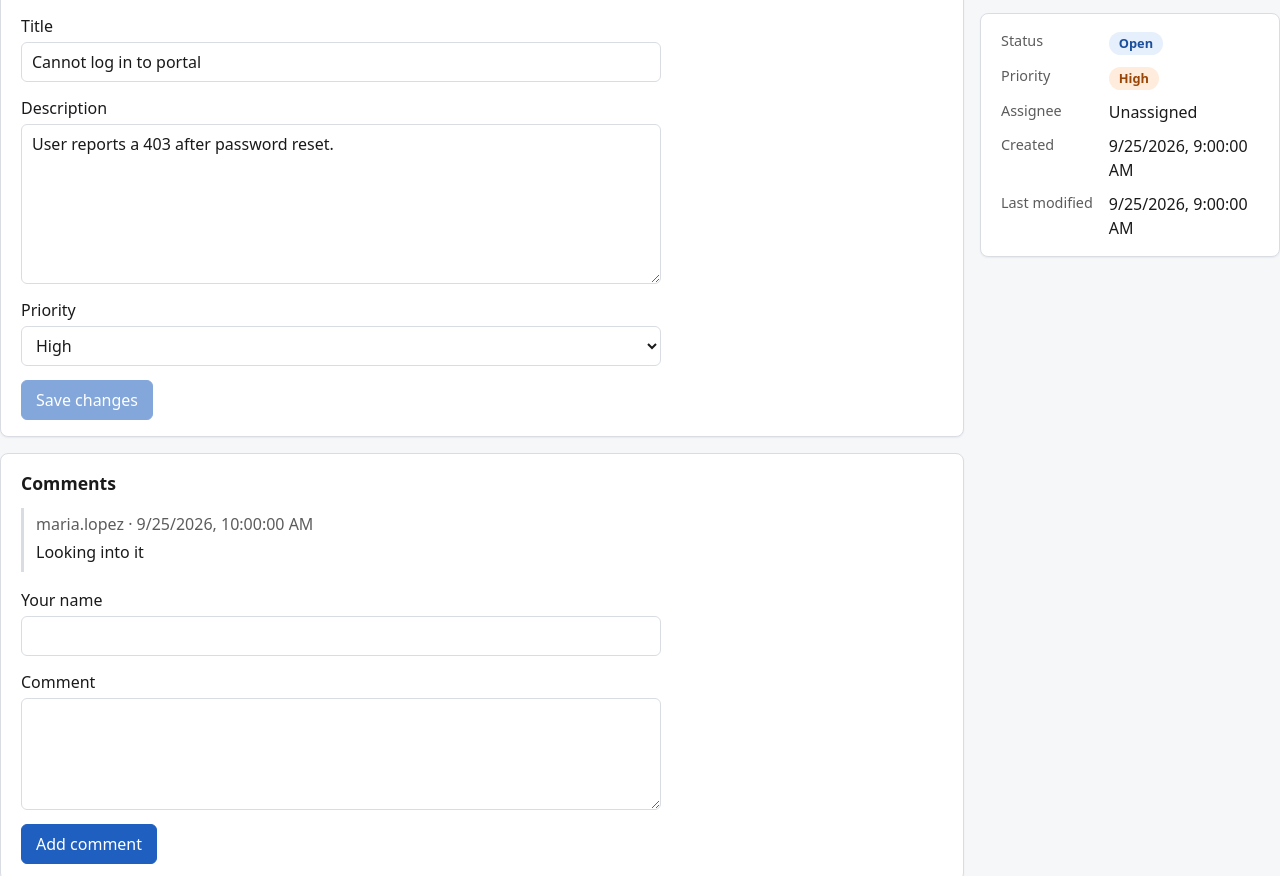
Test case: comments (REQ-5, TS-FE-11) › requires author and comment text before sending
The image size is (1280, 876).
(page scrolled)
Click the button "Add comment" at (89, 844), box [21,824,157,864]
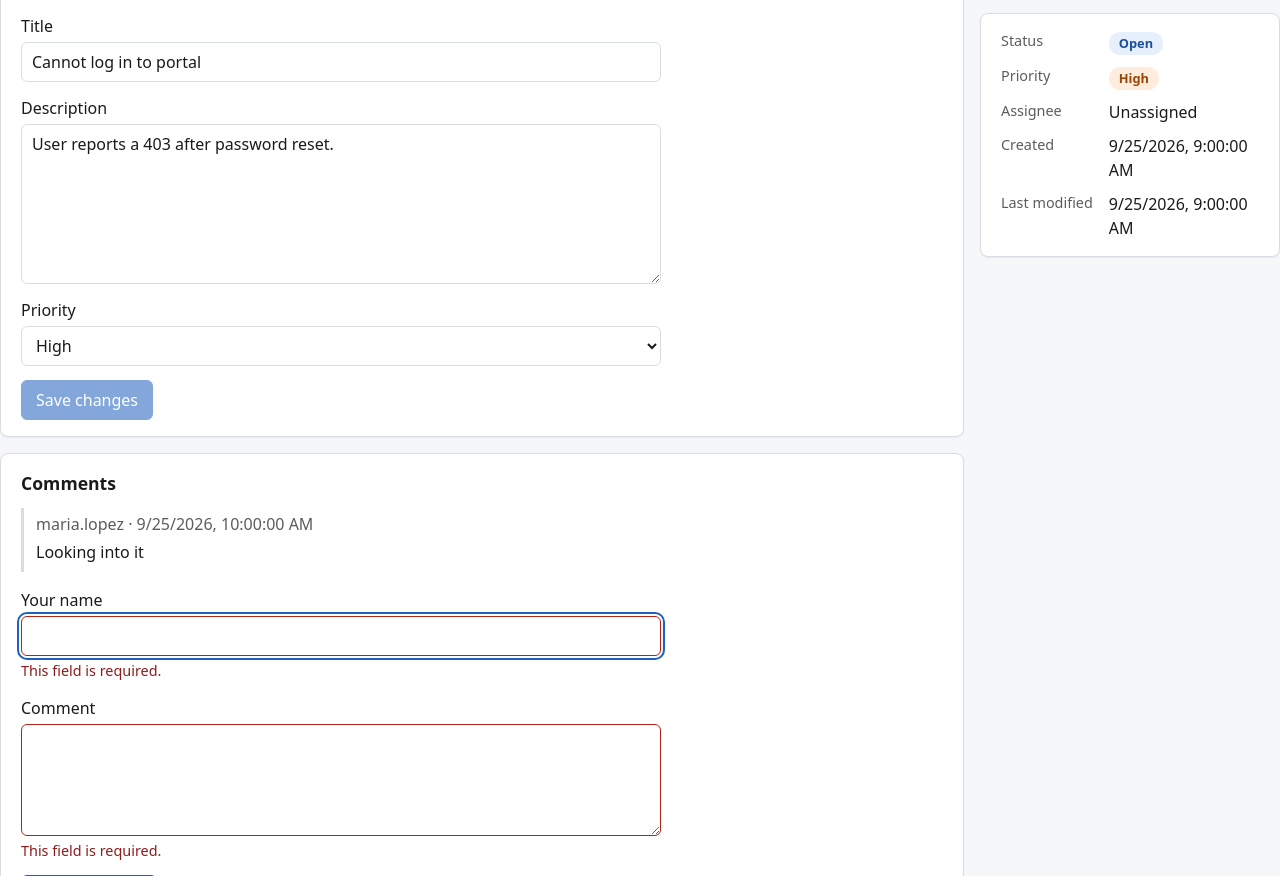
Expected: the text "This field is required." is shown 2 times, [21,661,161,680]; [21,841,161,860]
